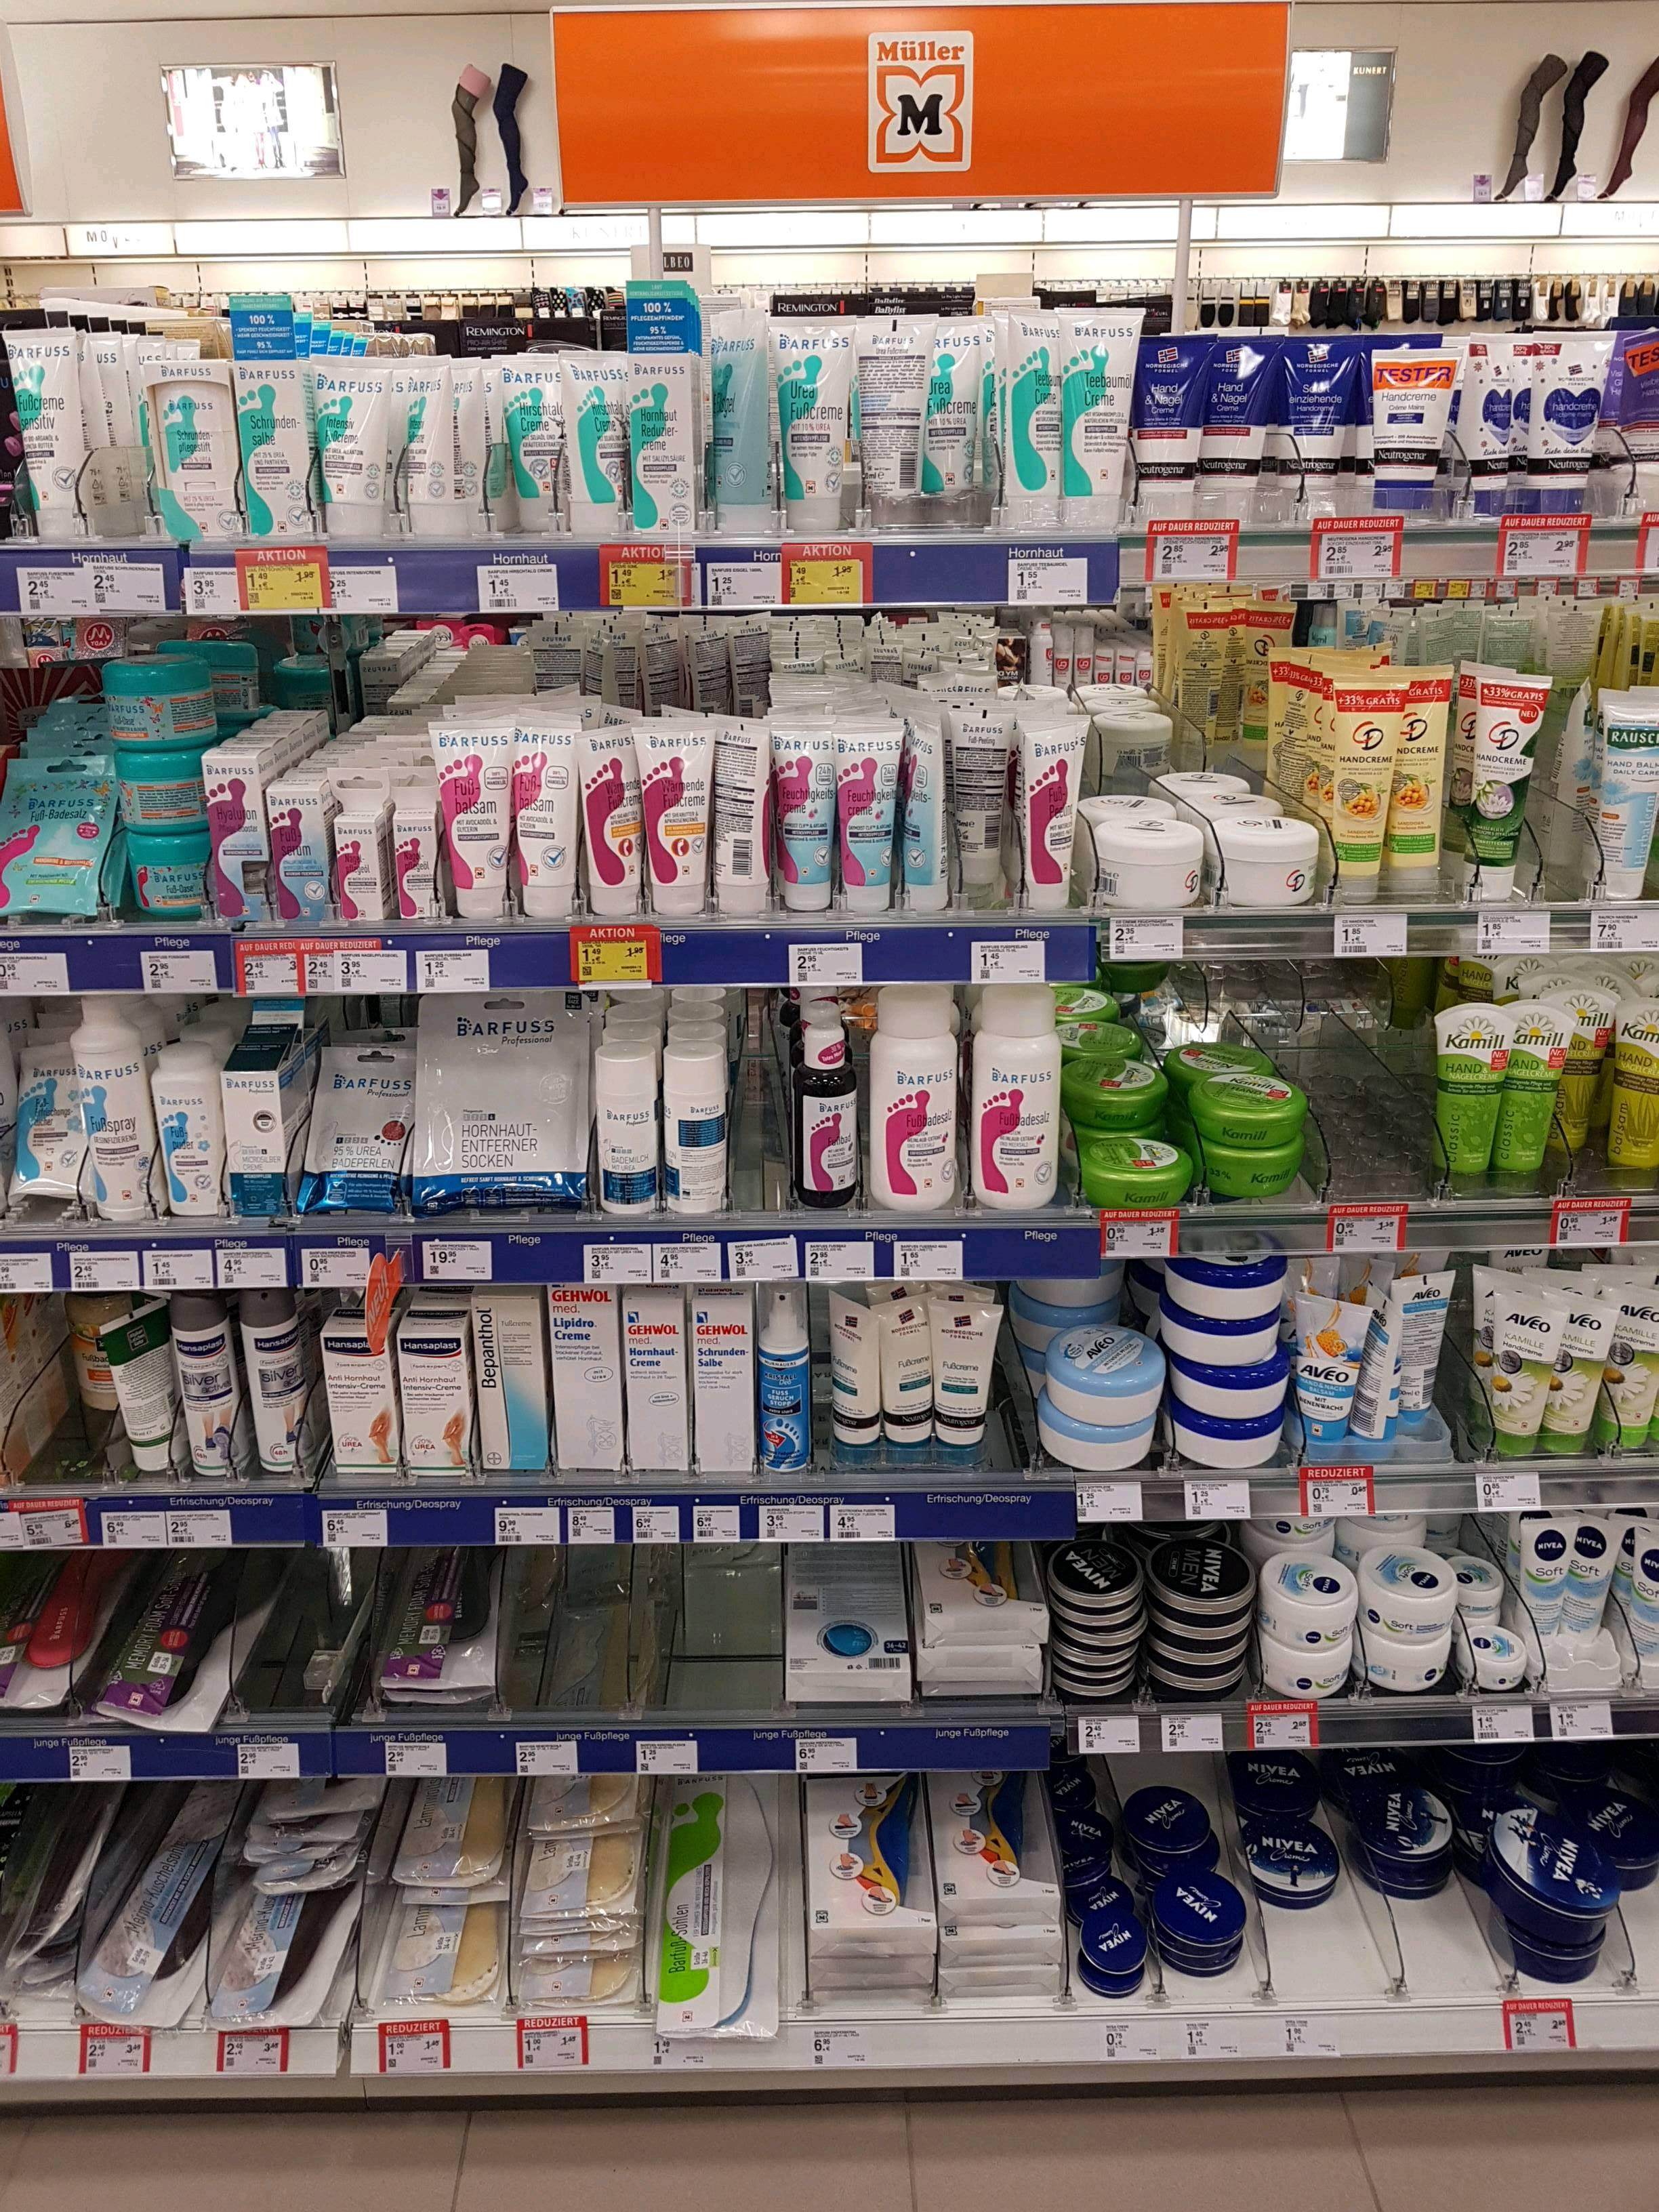empty: (660, 1554, 774, 1702), (735, 995, 784, 1212)
misalignment: (99, 1312, 178, 1472), (1361, 1277, 1403, 1460)
